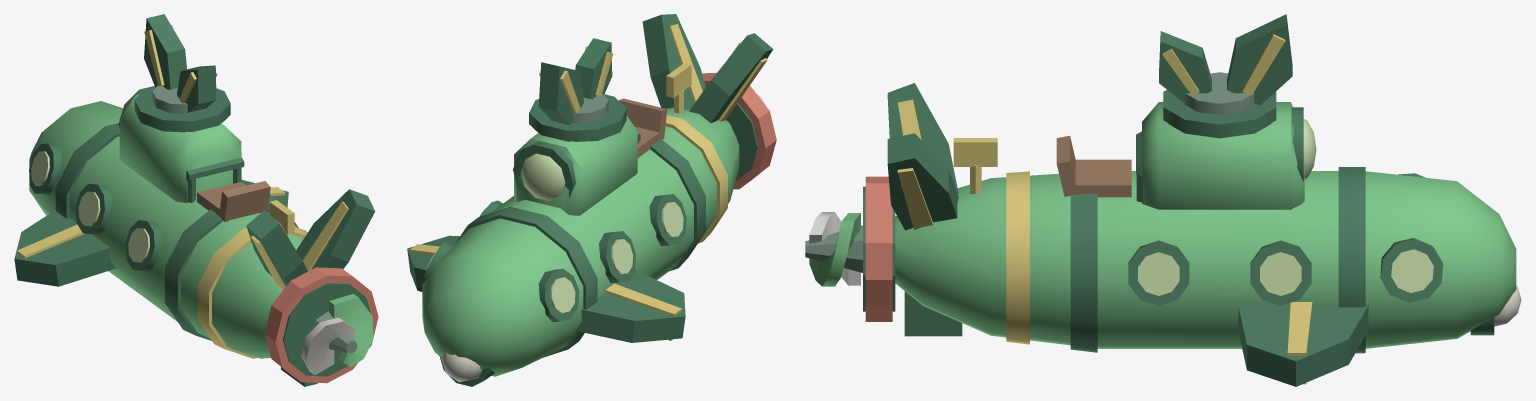
Rendered from KelpCruiser.glb.
3 renders of one model, left to right at view 1: azimuth 30°, elevation 25°; view 2: azimuth 150°, elevation 25°; view 3: azimuth 270°, elevation 25°, orthographic. The views are drawn at different scales.
Parts seen in each view (by area): view 1: Hull, Prop, Seat, Hull_Glow; view 2: Hull, Hull_Glow, Seat, Light; view 3: Hull, Hull_Glow, Prop, Seat.
Part boxes in pixels (<box>): Hull: <box>14,14,378,386</box>; Prop: <box>301,294,373,375</box>; Seat: <box>186,157,270,221</box>; Hull_Glow: <box>31,151,149,262</box>; Hull: <box>407,14,776,386</box>; Hull_Glow: <box>425,153,683,313</box>; Seat: <box>618,98,667,157</box>; Light: <box>441,353,482,382</box>; Hull: <box>863,14,1516,386</box>; Hull_Glow: <box>1138,119,1433,295</box>; Prop: <box>805,212,862,286</box>; Seat: <box>1056,131,1142,202</box>.
Size of the model in its own units: 22.92 by 21.03 by 42.25.
